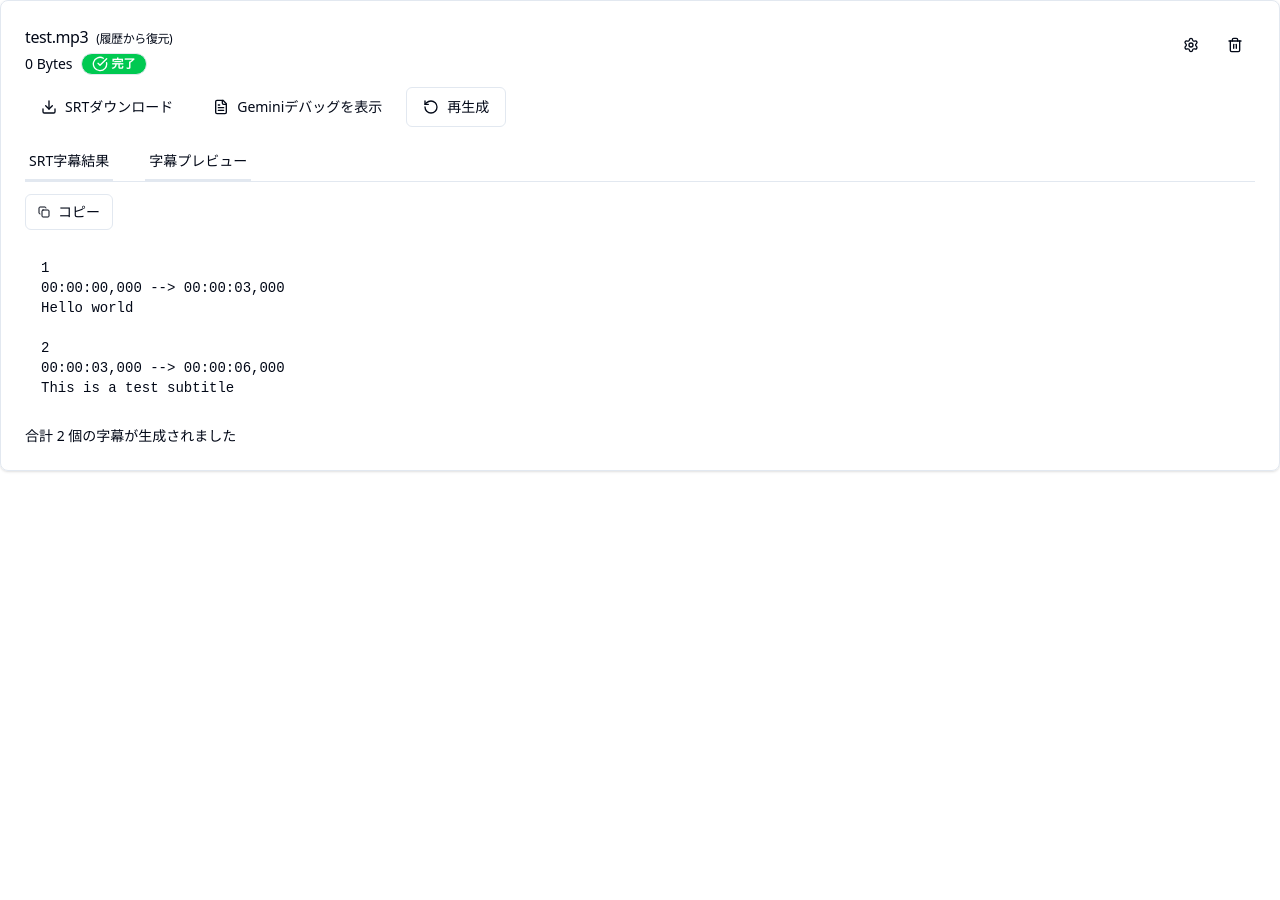
Test: SrtFileCard Preview Integration › passes correct props to AudioSubtitlePreview component
# Click preview tab (get the first one which is the tab button)
Click the button "字幕プレビュー".
click(198, 162)  # box [145,143,251,181]
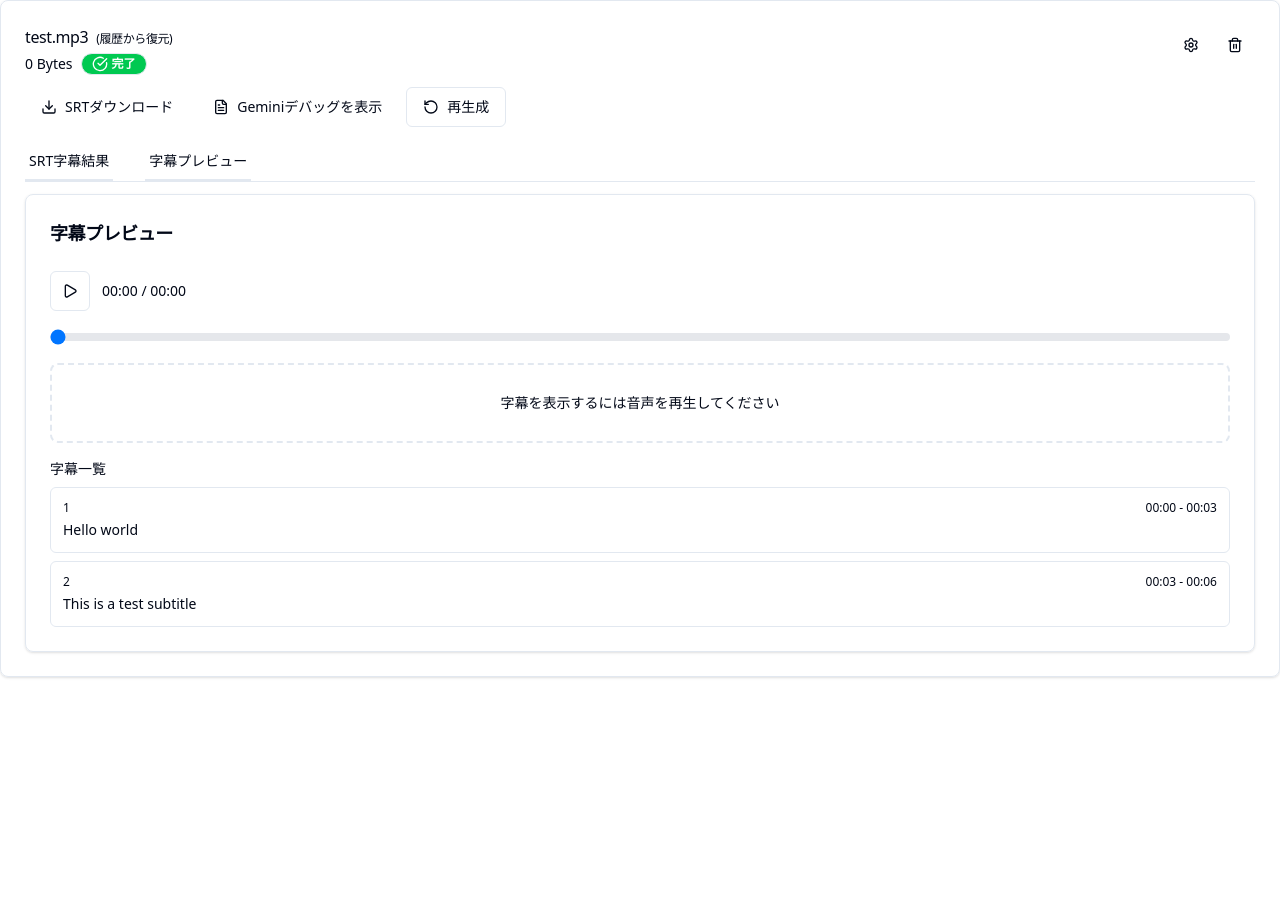
Expected: the element with test id "subtitle-display" is shown, [50,363,1230,443]
Expected: the heading "字幕一覧" is shown, [50,459,106,478]
Expected: the button named "play" is shown, [50,271,90,311]
